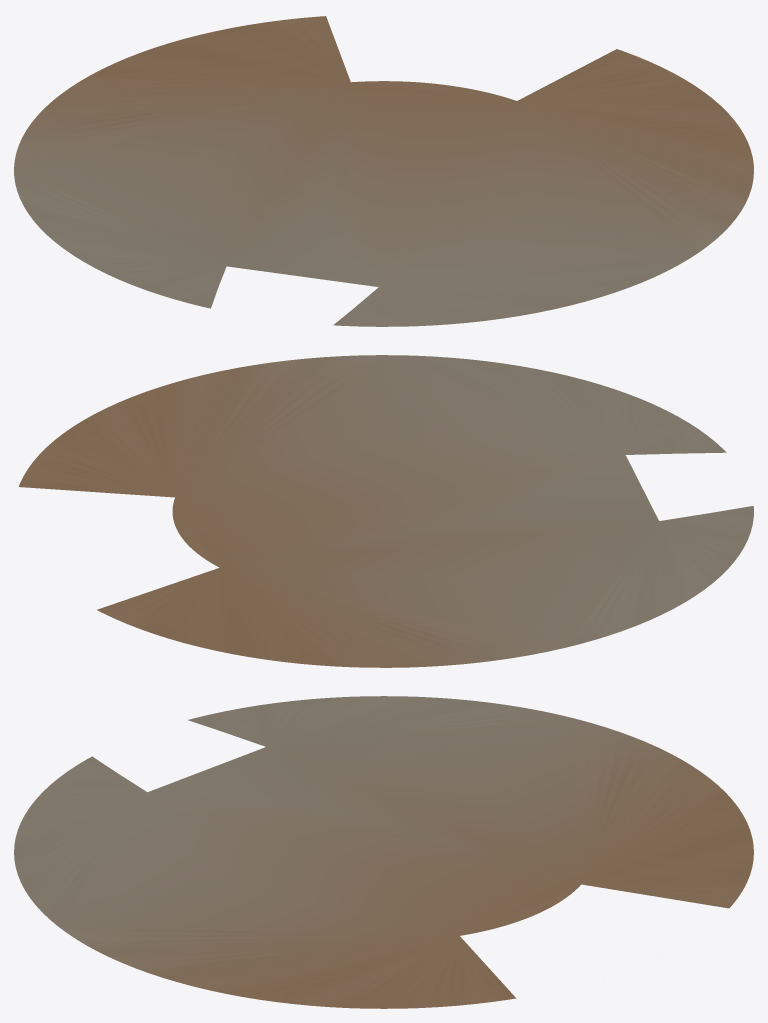
Rendered from e11c-c3-fitted-floor.glb.
The picture shows the model from 3 angles, top to bottom: view 1: azimuth 30°, elevation 25°; view 2: azimuth 150°, elevation 25°; view 3: azimuth 270°, elevation 25°; orthographic projection.
Parts seen in each view (by area): view 1: C3 fitted center floor; view 2: C3 fitted center floor; view 3: C3 fitted center floor.
Boxes of the visible parts, bbox=[...] form: C3 fitted center floor: bbox=[14, 16, 753, 326]; C3 fitted center floor: bbox=[18, 355, 753, 667]; C3 fitted center floor: bbox=[14, 696, 753, 1008].
Size of the model in its own units: 56 by 0 by 56.
